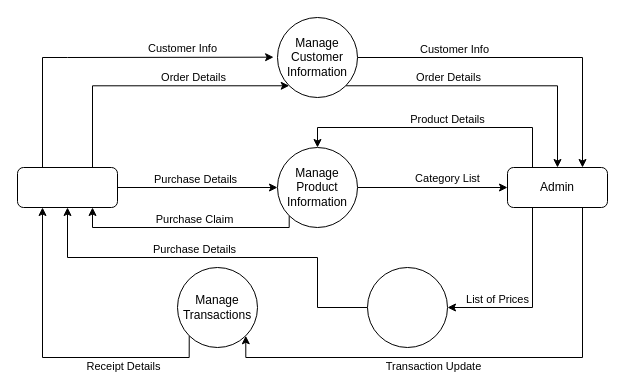
The diagram is 625 pixels wide and 390 high, and some of its shapes have lost their labels. The shapes that lost their labels are listed below. From the top down, each one's box as (x1, y1, x2, y2) in pixels, then its label:
(16, 166, 118, 208): Customers
(366, 266, 448, 348): Manage Payment/ Revenue
